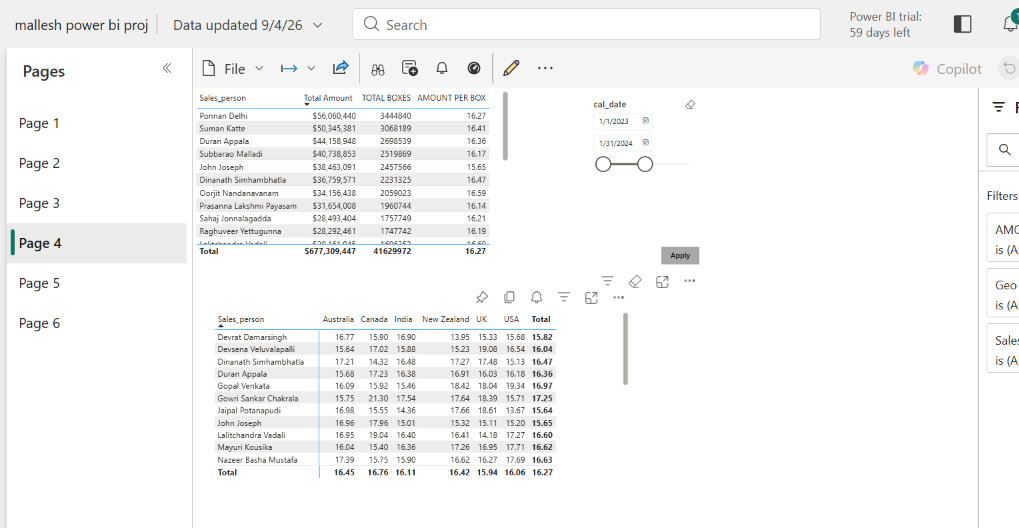

The page's visual inventory and layout, read from the dashboard file:
{"tool":"powerbi","page":{"name":"Page 4","canvas":[1280,720],"ordinal":3},"visuals":[{"type":"tableEx","fields":{"Values":["people.Sales_person","shipments.Total Amount","shipments.TOTAL BOXES","shipments.AMOUNT PER BOX"]},"box":[0,0,518.8,280],"z":0},{"type":"pivotTable","fields":{"Rows":["people.Sales_person"],"Columns":["locations.Geo"],"Values":["shipments.AMOUNT PER BOX"]},"box":[31.2,360,683.8,280],"z":1000},{"type":"slicer","fields":{"Values":["calendar.cal_date"]},"box":[640,13.8,191.2,280],"z":2000}]}

Visuals, with their boxes on the page's 1280x720 design canvas (x1, y1, x2, y2). These are canvas units, not pixel positions in the 1019x528 screenshot, which may show the page scaled, cropped or inside an application window:
tableEx - people.Sales_person x shipments.Total Amount: (0, 0, 519, 280)
pivotTable - people.Sales_person x locations.Geo: (31, 360, 715, 640)
slicer - calendar.cal_date: (640, 14, 831, 294)
